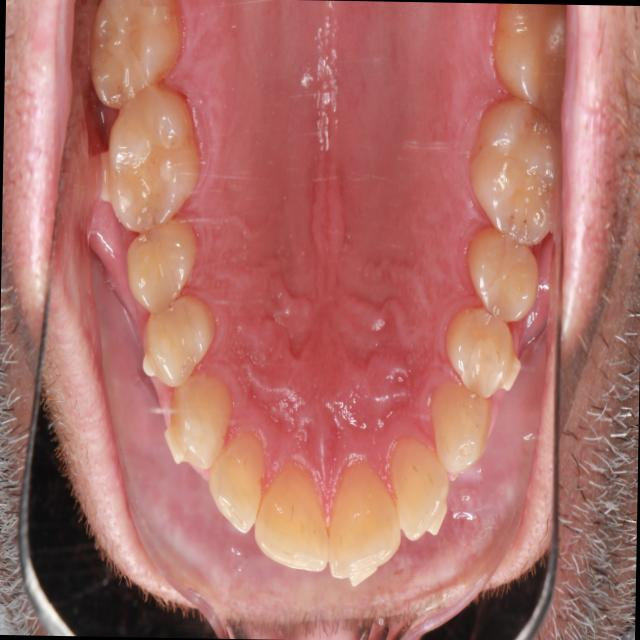tooth: (92, 74, 207, 259), (461, 84, 568, 265), (81, 0, 199, 126), (324, 448, 407, 602), (128, 278, 227, 406), (251, 451, 338, 590), (431, 303, 534, 415), (484, 3, 571, 133), (153, 362, 235, 497), (383, 420, 460, 556), (198, 420, 278, 549), (117, 207, 203, 323), (462, 226, 547, 341), (425, 373, 493, 512)
